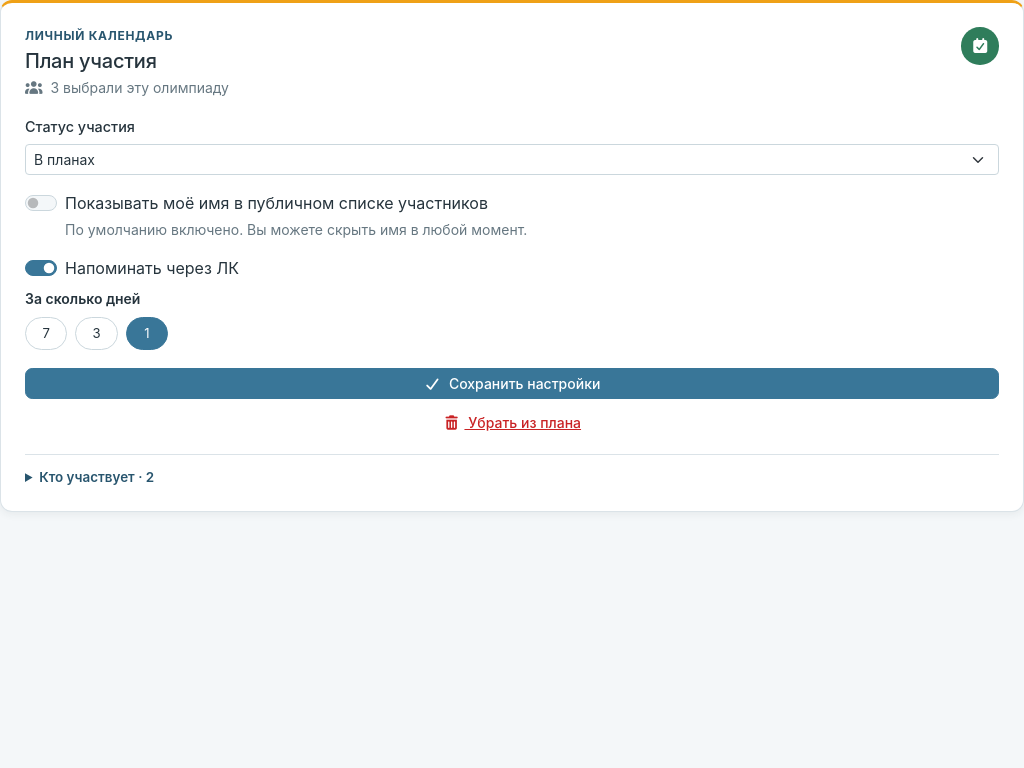
Test: PlanPanel › не позволяет включить напоминания без единого срока
The width and height of the screenshot is (1024, 768).
Click the checkbox with id "reminder-day-1" at (147, 333), box [126,317,168,350]
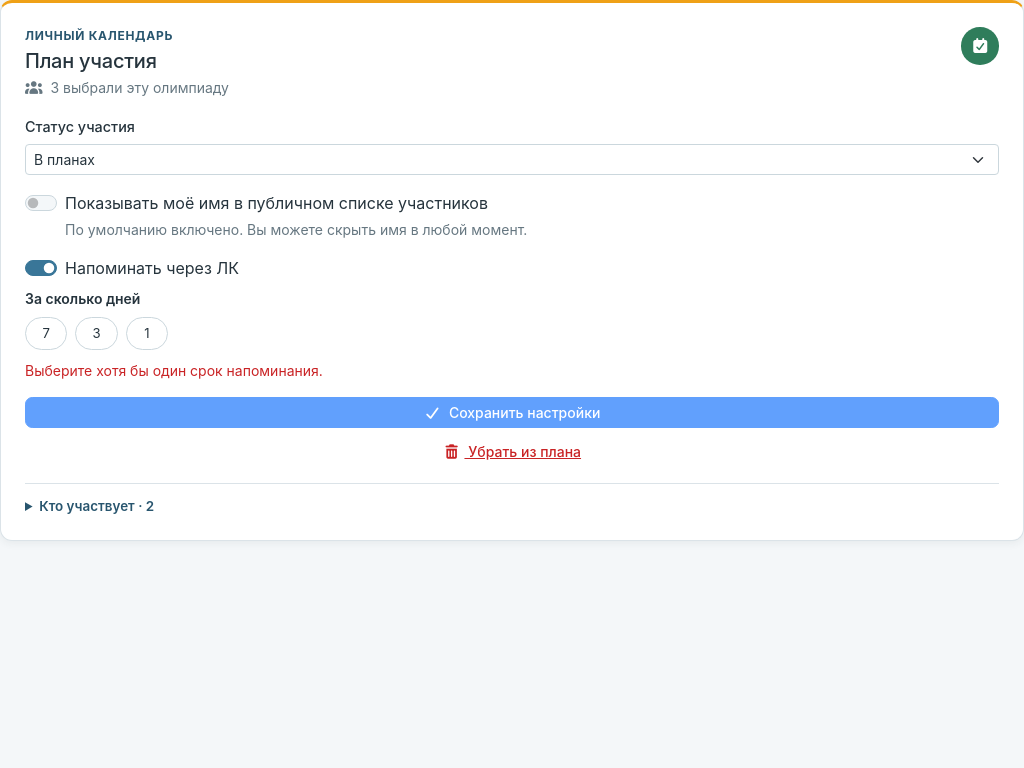
Check: the text "Выберите хотя бы один срок" is shown, box [25,362,323,379]
Check: the submit button is disabled, box [25,397,999,428]
